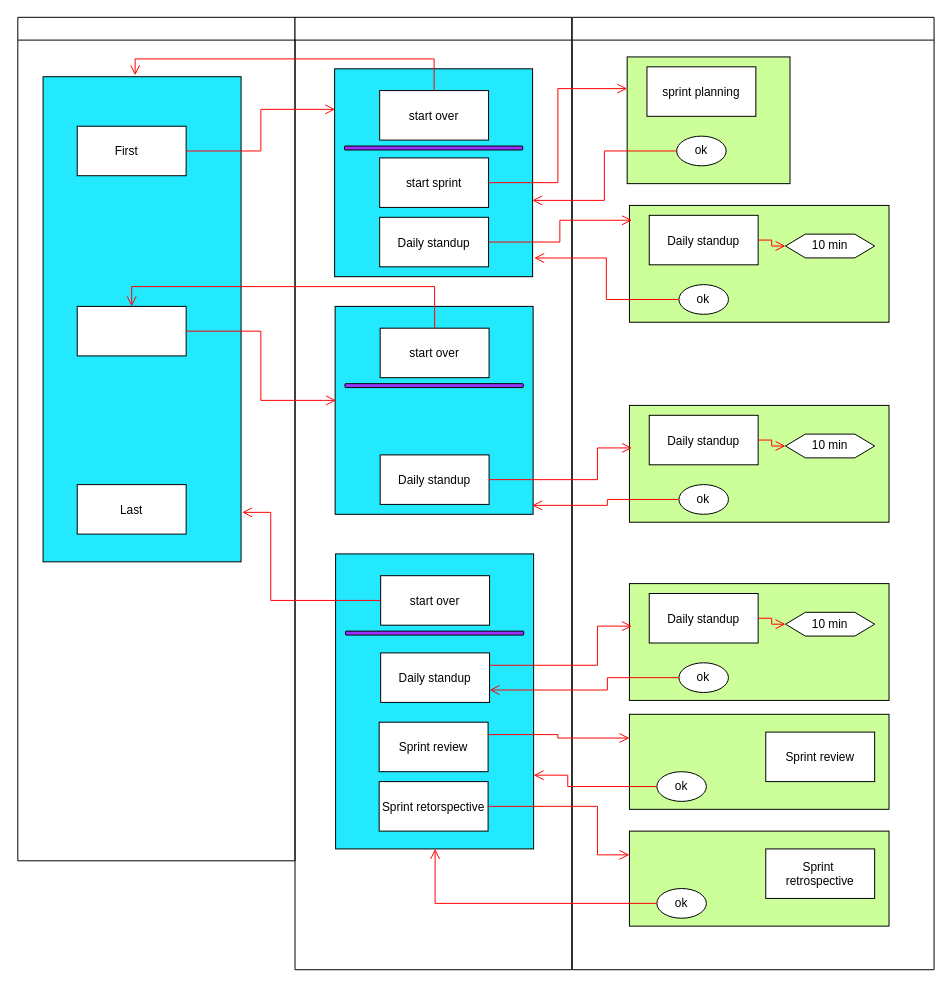
Some shapes in this 951 by 987 pixel diagram are drawn without their labels. Each missing label, with the box of its shape:
Page 1: (17, 16, 295, 861)
Page 2: (294, 16, 572, 970)
Page 3: (571, 16, 934, 970)
Somewher: (76, 305, 186, 356)
